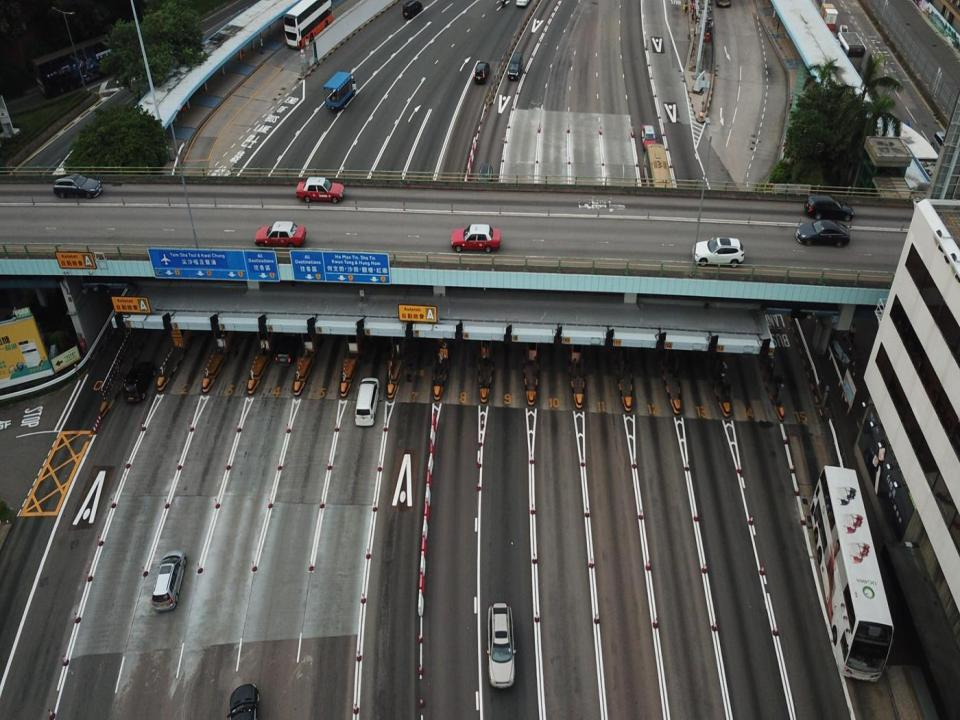bus: (810, 464, 892, 681), (32, 28, 133, 100), (283, 0, 333, 48), (643, 144, 675, 211)
car: (692, 236, 745, 269), (794, 218, 850, 248), (254, 221, 307, 250), (451, 223, 501, 252), (296, 175, 344, 204), (227, 684, 260, 719), (642, 124, 656, 152)
truck: (324, 70, 357, 109)
van: (487, 602, 516, 689), (150, 549, 187, 610), (122, 361, 156, 401), (805, 195, 854, 221), (53, 173, 101, 198), (354, 378, 379, 425), (931, 129, 959, 170), (276, 324, 300, 366), (476, 162, 493, 192), (508, 53, 524, 79), (402, 0, 422, 19), (474, 61, 490, 83)
